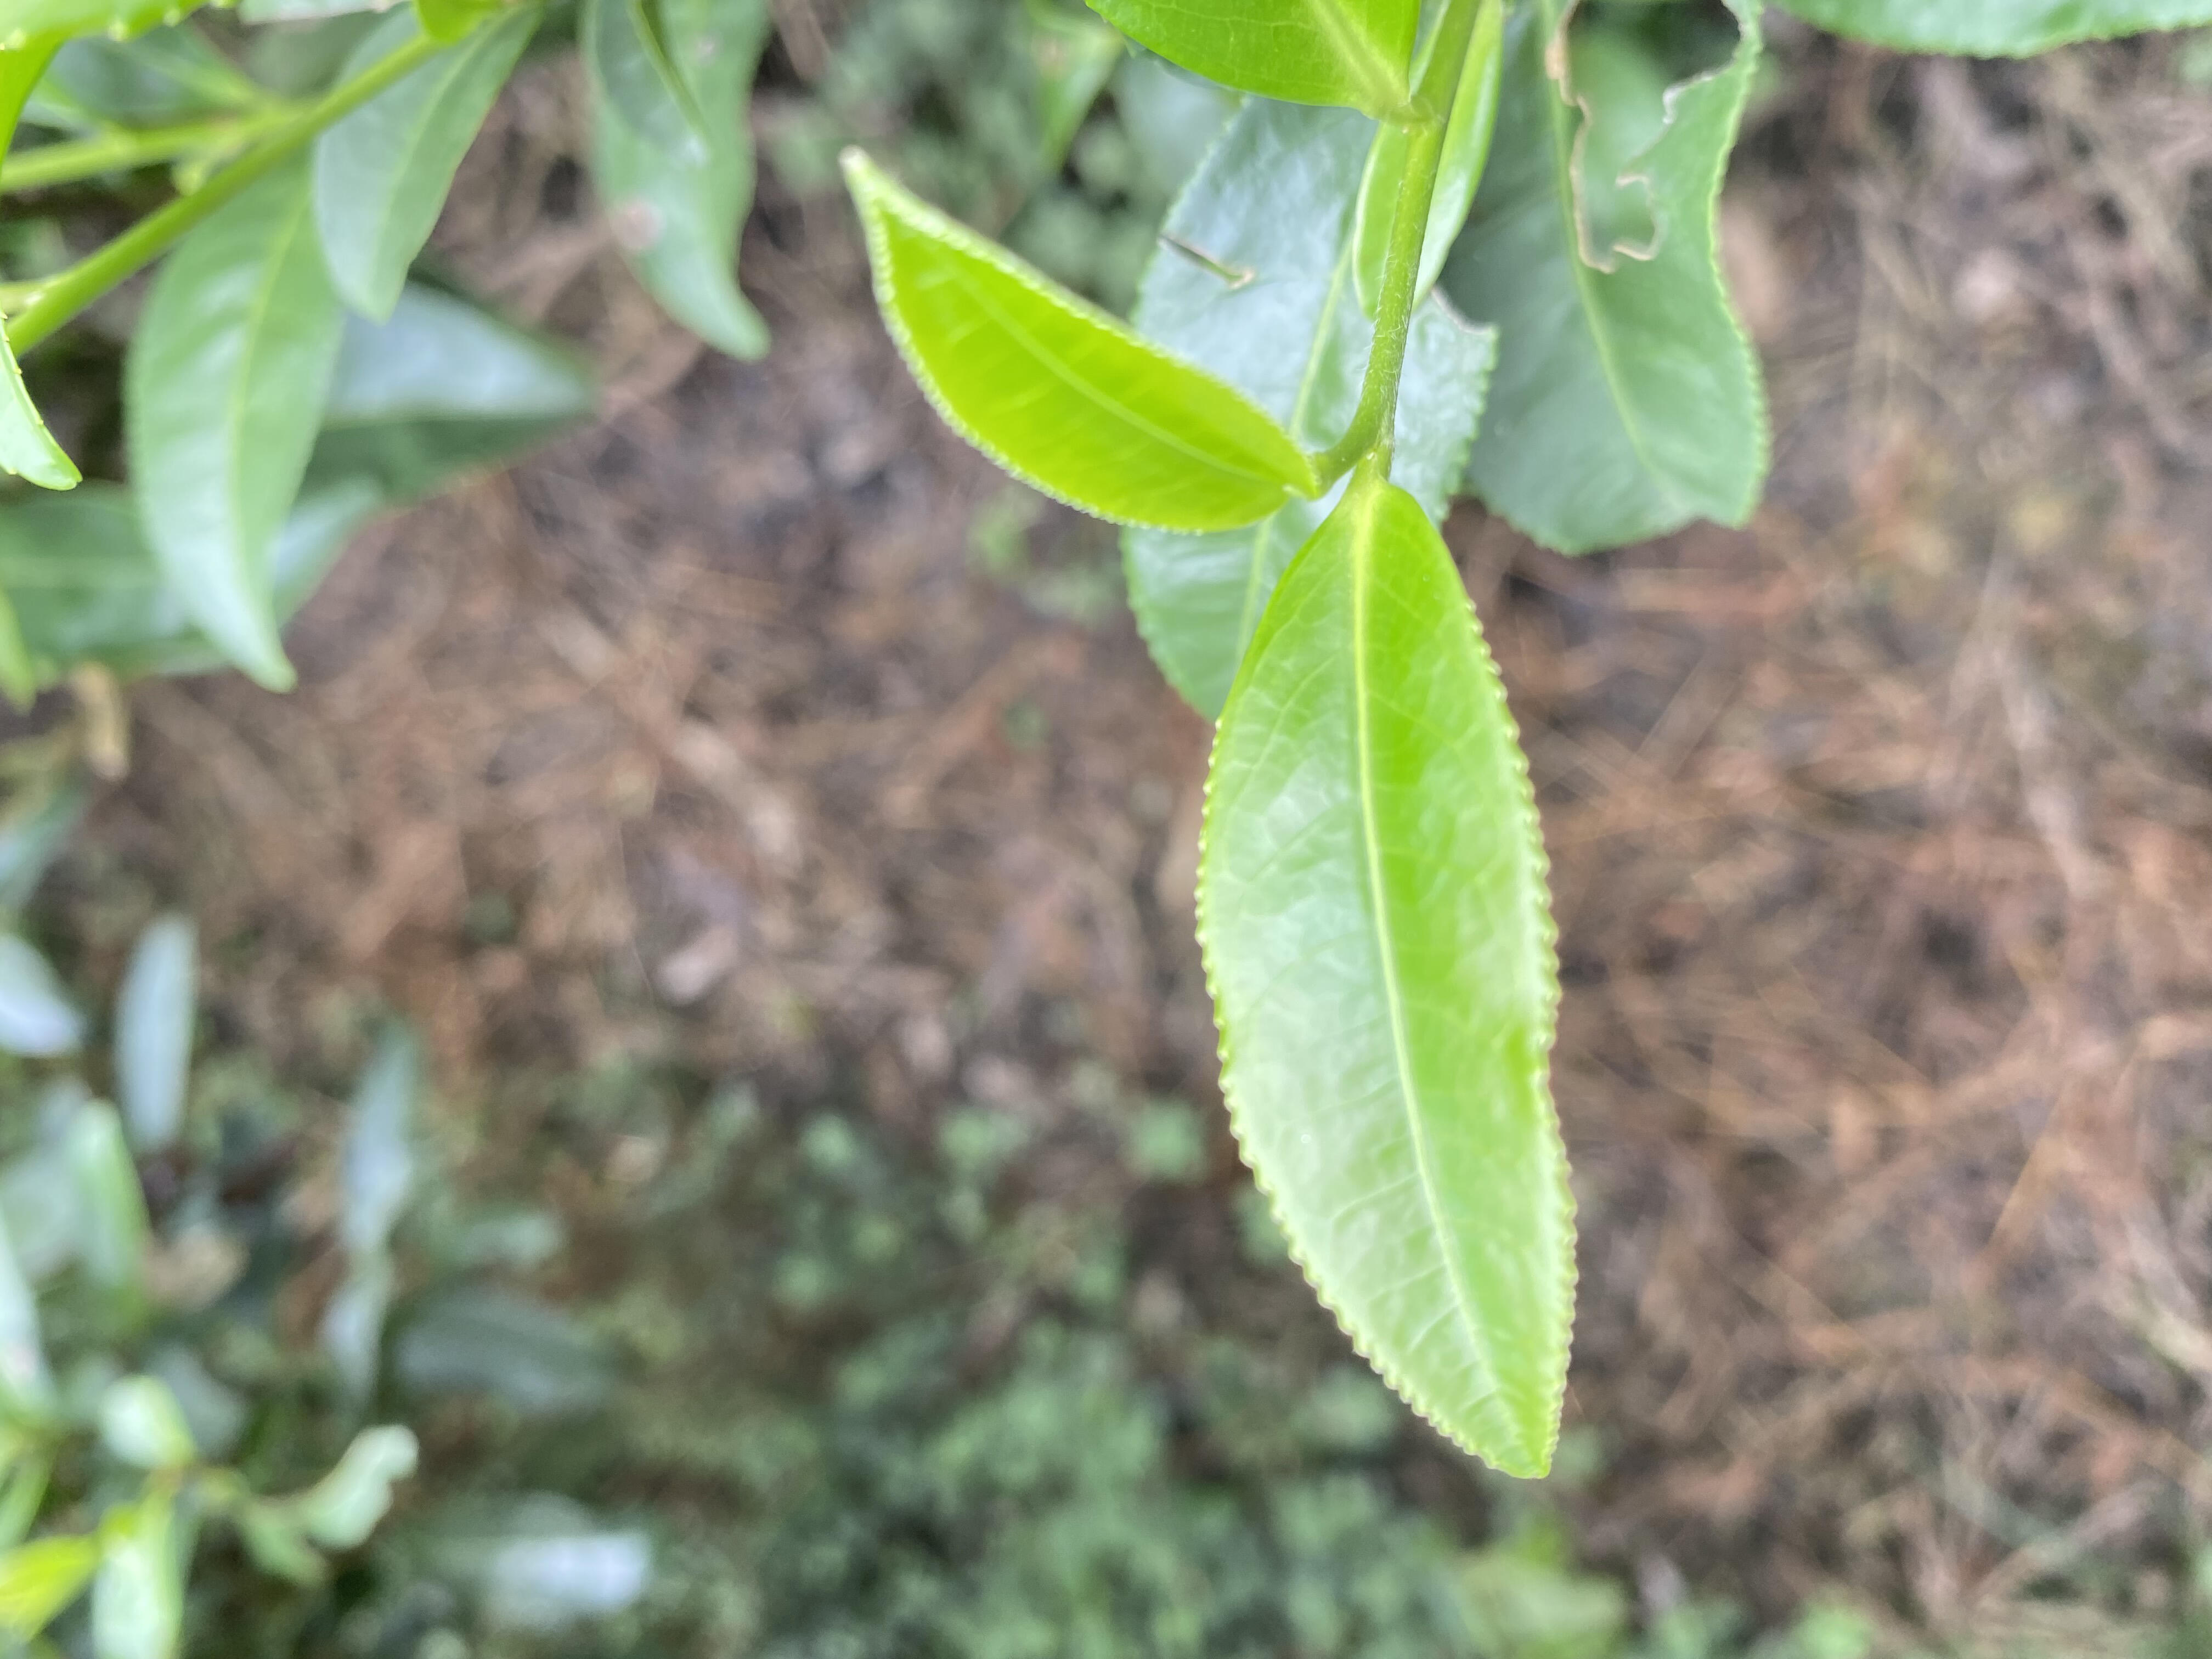chihuo_high: (1470, 2, 1764, 558)
healthy: (1197, 483, 1587, 1483), (838, 150, 1315, 538)
